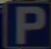Parking: (9, 5, 43, 40)
